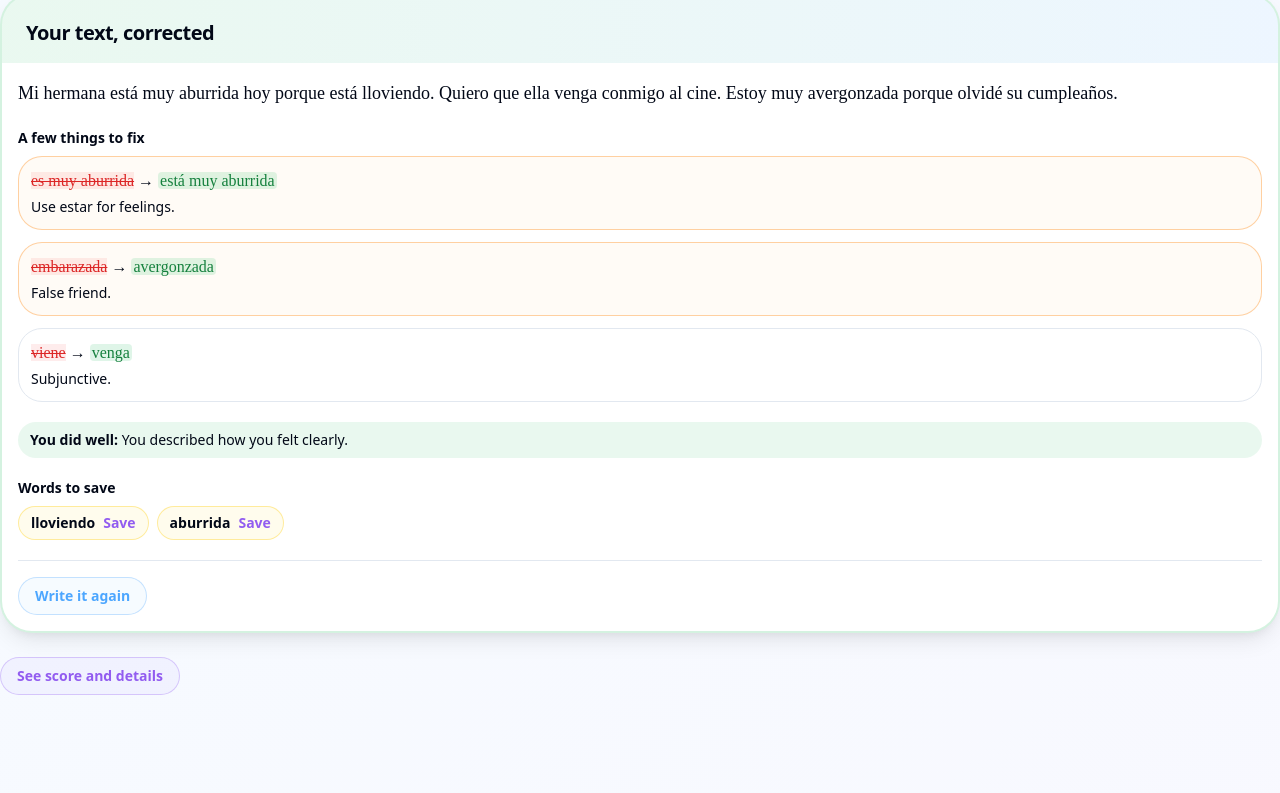
policy-sized result view › shows the calm result first with meaning-changing fixes first and keeps full details one tap away
Expected: the text with test id "calm-corrected-text" shows "Mi hermana está muy aburrida hoy porque está lloviendo. Quiero que ella venga conmigo al cine. Estoy muy avergonzada porque olvidé su cumpleaños.", 18,83 -> 1118,103
Expected: the number of list items with test id "calm-fix" is 3, 18,156 -> 1262,230; 18,242 -> 1262,316; 18,328 -> 1262,402
Click the button with test id "calm-details-toggle" at (90, 676), box 0,657 -> 180,695
(page scrolled)
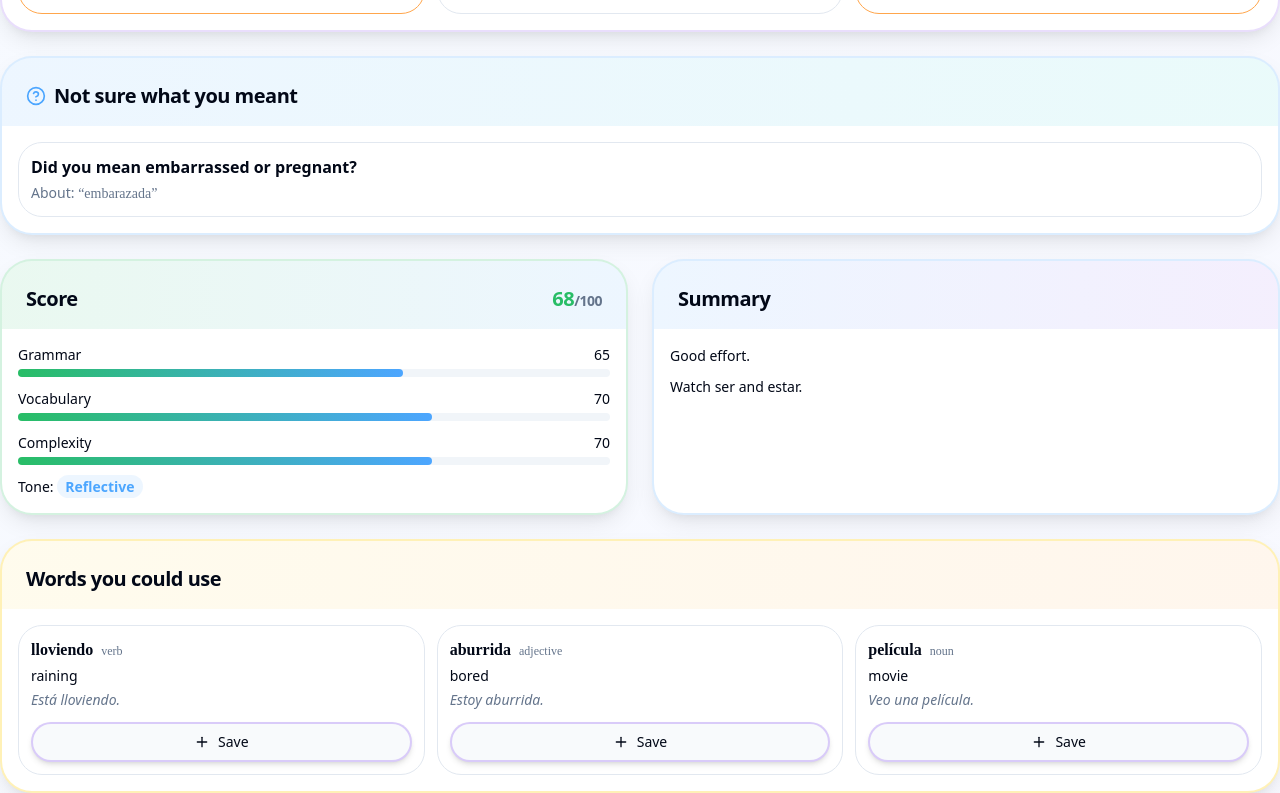
Expected: the element with test id "entry-overview" is shown
